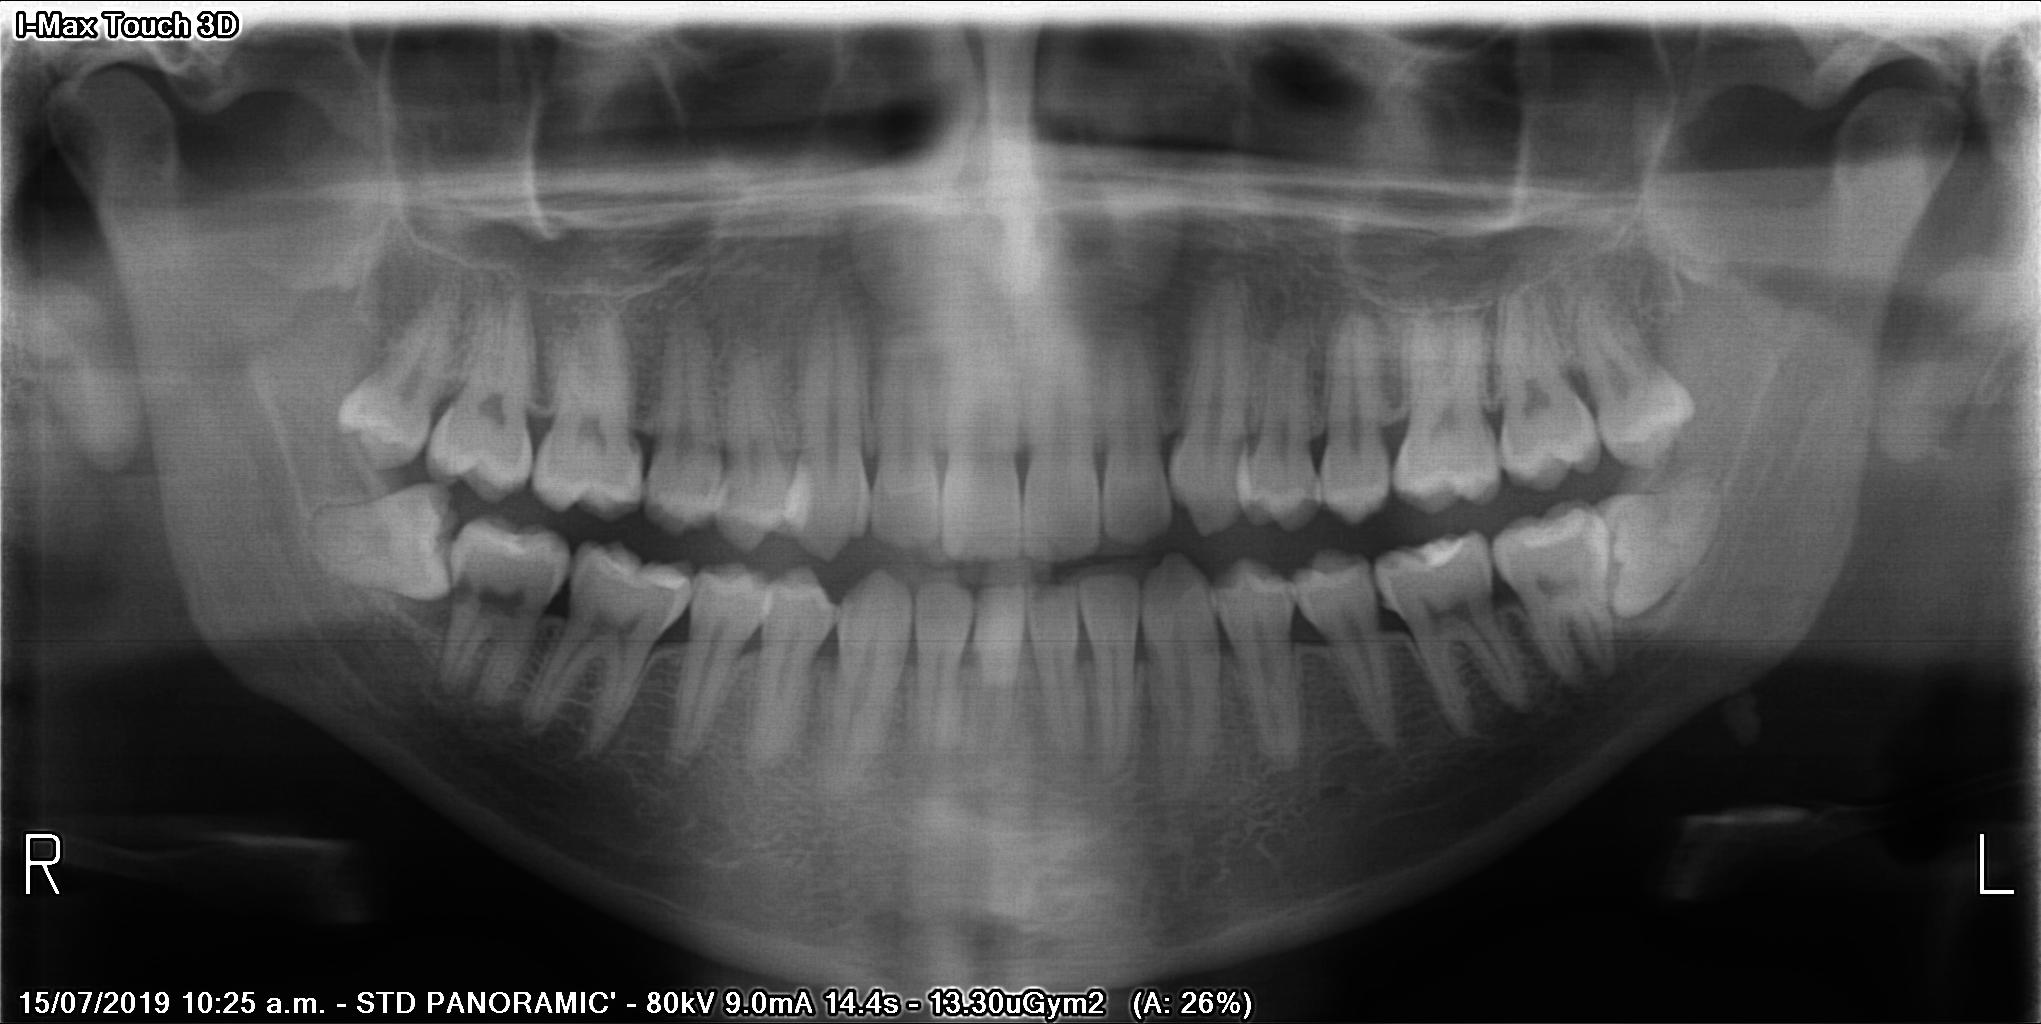Çürük Bölgesi: (449, 568, 479, 622)
